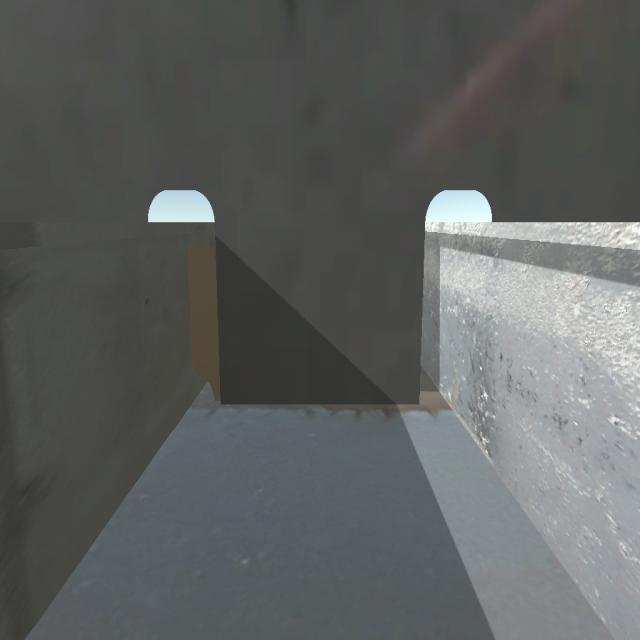fillet_hole: (196, 371, 215, 404)
fillet_yong_jeop_jang: (214, 395, 422, 411)
longi_yong_jeop_jang: (184, 242, 197, 373)
plate_behind: (187, 248, 223, 400)
